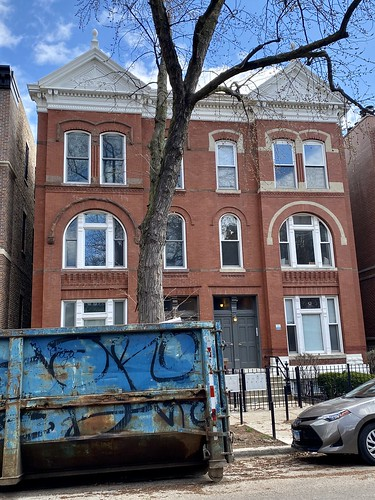building: (21, 43, 363, 367)
car: (279, 374, 375, 467)
dumpster: (1, 322, 228, 483)
tree: (116, 1, 358, 334)
